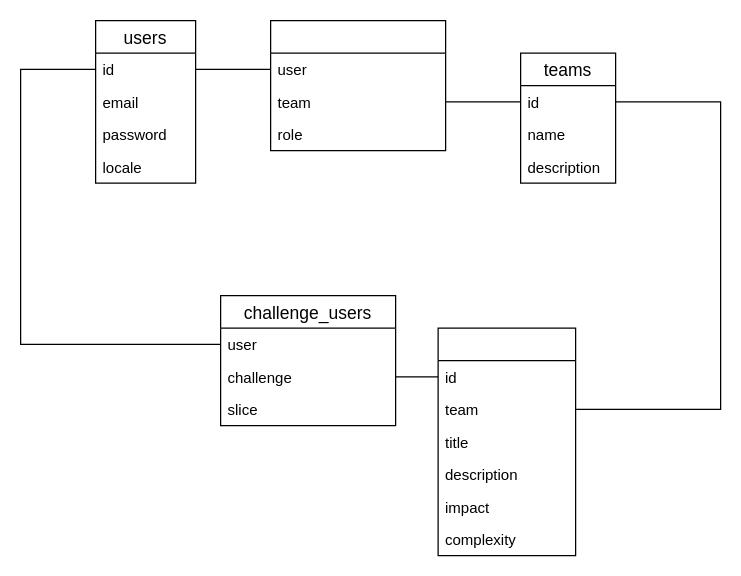
The diagram is 741 pixels wide and 576 high, and some of its shapes have lost their labels. The shapes that lost their labels are listed below. From the top down, each one's box as (x1, y1, x2, y2) in pixels, then its label:
(269, 19, 446, 151): team_memberships
(437, 327, 576, 556): challenges
